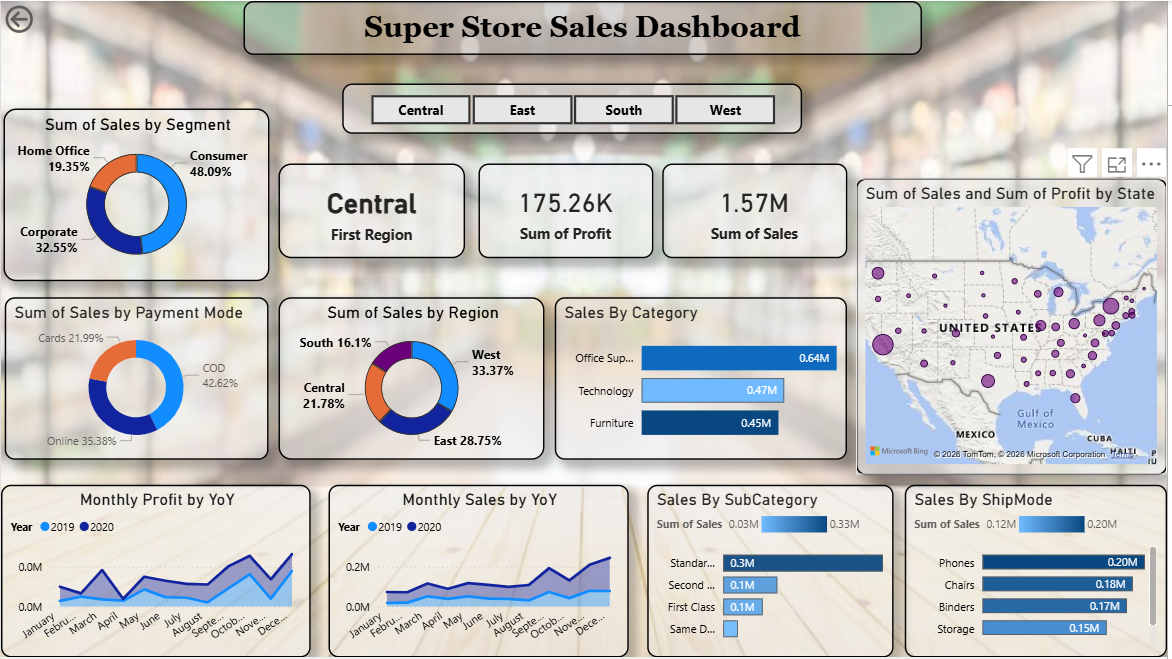

Layout of this report page (visuals, bound fields, positions):
{"tool":"powerbi","page":{"name":"Page 1","canvas":[1280,720],"ordinal":0},"visuals":[{"type":"clusteredBarChart","title":"Sales By Category","fields":{"Category":["SuperStore_Sales_Dataset.Category"],"Y":["Sum(SuperStore_Sales_Dataset.Sales)"]},"box":[607.9,325.2,321.1,178.4],"z":0},{"type":"clusteredBarChart","title":"Sales By ShipMode","fields":{"Category":["SuperStore_Sales_Dataset.Sub-Category"],"Y":["Sum(SuperStore_Sales_Dataset.Sales)"]},"box":[992.1,531,288.2,189.4],"z":1000},{"type":"clusteredBarChart","title":"Sales By SubCategory","fields":{"Category":["SuperStore_Sales_Dataset.Ship Mode"],"Y":["Sum(SuperStore_Sales_Dataset.Sales)"]},"box":[709.4,531,270.3,189.4],"z":2000},{"type":"stackedAreaChart","title":"Monthly Sales by YoY","fields":{"Y":["Sum(SuperStore_Sales_Dataset.Sales)"],"Category":["SuperStore_Sales_Dataset.Order Date.Variation.Date Hierarchy.Month","SuperStore_Sales_Dataset.Order Date.Variation.Date Hierarchy.Day"],"Series":["SuperStore_Sales_Dataset.Order Date.Variation.Date Hierarchy.Year"]},"box":[359.5,531,329.3,189.4],"z":3000},{"type":"stackedAreaChart","title":"Monthly  Profit by YoY","fields":{"Category":["SuperStore_Sales_Dataset.Order Date.Variation.Date Hierarchy.Month","SuperStore_Sales_Dataset.Order Date.Variation.Date Hierarchy.Day"],"Series":["SuperStore_Sales_Dataset.Order Date.Variation.Date Hierarchy.Year"],"Y":["Sum(SuperStore_Sales_Dataset.Profit)"]},"box":[0,531,340.3,189.4],"z":4000},{"type":"map","fields":{"Category":["SuperStore_Sales_Dataset.State"],"Size":["Sum(SuperStore_Sales_Dataset.Sales)"]},"box":[938.6,194.9,341.7,325.2],"z":5000},{"type":"donutChart","fields":{"Y":["Sum(SuperStore_Sales_Dataset.Sales)"],"Category":["SuperStore_Sales_Dataset.Segment"]},"box":[2.7,118,292.3,189.4],"z":6000},{"type":"donutChart","fields":{"Y":["Sum(SuperStore_Sales_Dataset.Sales)"],"Category":["SuperStore_Sales_Dataset.Payment Mode"]},"box":[4.1,325.2,289.5,178.4],"z":7000},{"type":"slicer","fields":{"Values":["SuperStore_Sales_Dataset.Region"]},"box":[374.6,90.6,505,54.9],"z":8000},{"type":"textbox","box":[266.2,0,745.1,59],"z":9000},{"type":"donutChart","fields":{"Y":["Sum(SuperStore_Sales_Dataset.Sales)"],"Category":["SuperStore_Sales_Dataset.Region"]},"box":[304.6,325.2,292.3,178.4],"z":10000},{"type":"card","fields":{"Values":["Sum(SuperStore_Sales_Dataset.Sales)"]},"box":[725.9,178.4,203.1,104.3],"z":10001},{"type":"card","fields":{"Values":["Min(SuperStore_Sales_Dataset.Region)"]},"box":[304.6,178.4,204.5,104.3],"z":10002},{"type":"card","fields":{"Values":["Sum(SuperStore_Sales_Dataset.Profit)"]},"box":[524.2,178.4,192.1,104.3],"z":10003},{"type":"actionButton","box":[0,0,100,40],"z":10004}]}

Visuals, with their boxes in screenshot pixels (x1, y1, x2, y2), scaled from the page's 1280x720 canvas onto the 1172x659 screenshot:
"Sales By Category" clusteredBarChart: [x1=557, y1=298, x2=851, y2=461]
"Sales By ShipMode" clusteredBarChart: [x1=908, y1=486, x2=1171, y2=658]
"Sales By SubCategory" clusteredBarChart: [x1=650, y1=486, x2=897, y2=658]
"Monthly Sales by YoY" stackedAreaChart: [x1=329, y1=486, x2=631, y2=658]
"Monthly  Profit by YoY" stackedAreaChart: [x1=0, y1=486, x2=312, y2=658]
map - SuperStore_Sales_Dataset.State x Sum(SuperStore_Sales_Dataset.Sales): [x1=859, y1=178, x2=1171, y2=476]
donutChart - Sum(SuperStore_Sales_Dataset.Sales) x SuperStore_Sales_Dataset.Segment: [x1=2, y1=108, x2=270, y2=281]
donutChart - Sum(SuperStore_Sales_Dataset.Sales) x SuperStore_Sales_Dataset.Payment Mode: [x1=4, y1=298, x2=269, y2=461]
slicer - SuperStore_Sales_Dataset.Region: [x1=343, y1=83, x2=805, y2=133]
textbox: [x1=244, y1=0, x2=926, y2=54]
donutChart - Sum(SuperStore_Sales_Dataset.Sales) x SuperStore_Sales_Dataset.Region: [x1=279, y1=298, x2=547, y2=461]
card - Sum(SuperStore_Sales_Dataset.Sales): [x1=665, y1=163, x2=851, y2=259]
card - Min(SuperStore_Sales_Dataset.Region): [x1=279, y1=163, x2=466, y2=259]
card - Sum(SuperStore_Sales_Dataset.Profit): [x1=480, y1=163, x2=656, y2=259]
actionButton: [x1=0, y1=0, x2=92, y2=37]
